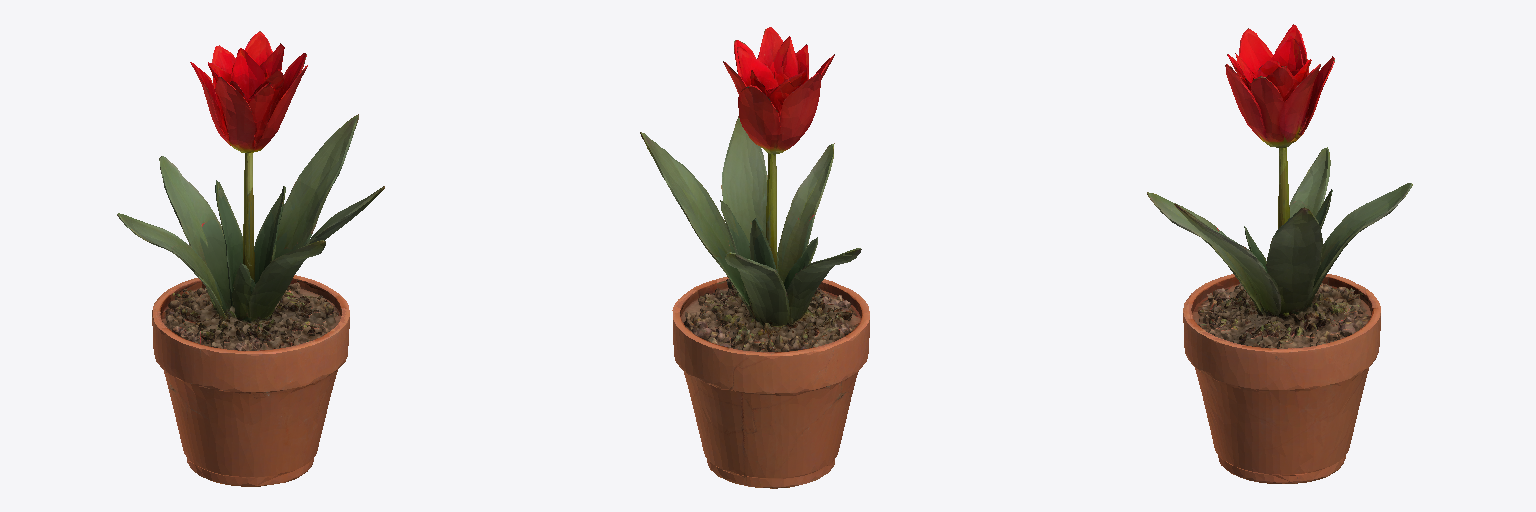
3 views of the same model, side by side, from view 1: azimuth 30°, elevation 25°; view 2: azimuth 150°, elevation 25°; view 3: azimuth 270°, elevation 25° (orthographic).
Parts seen in each view (by area): view 1: flower; view 2: flower; view 3: flower.
Part boxes in pixels (x1,y1,x2,y2): flower: (117, 31, 384, 486); flower: (640, 27, 869, 488); flower: (1147, 24, 1412, 483).
Size of the model in its own units: 1.18 by 2 by 1.18.
1 materials, 1 textured.